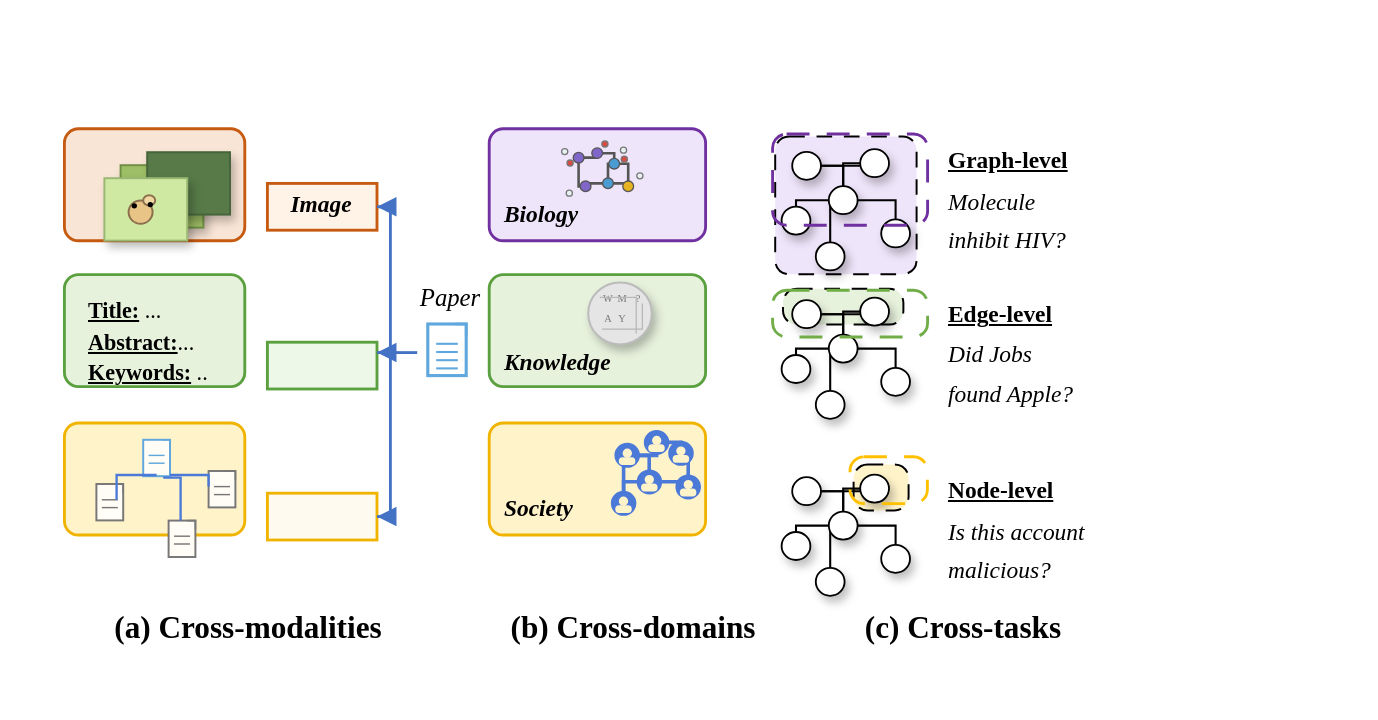
Image size: 1378x720. Some labels were removed from this diagram. The centre of each missing label's shape, as x and y in pixels:
"Graph" goes at point 321,515.
"Text" goes at point 321,364.
